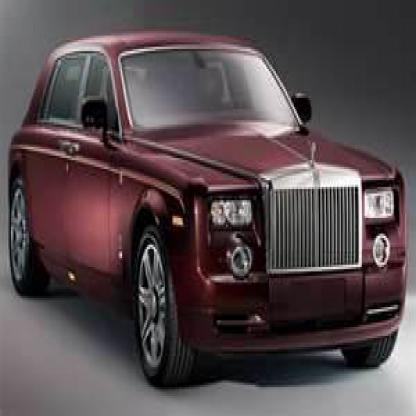Vehicle: (1, 15, 414, 380)
